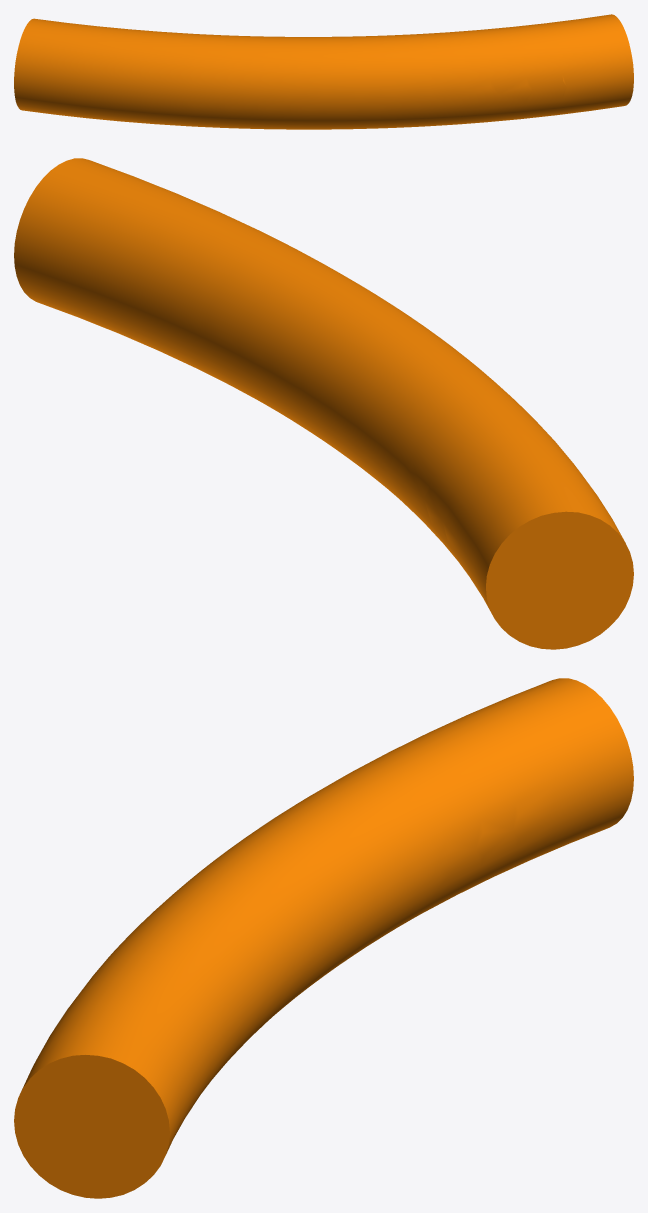
Rendered from Exc_Motor_5203_2402_0188_37.obj.
3 views of the same model, one above another, from view 1: azimuth 30°, elevation 25°; view 2: azimuth 150°, elevation 25°; view 3: azimuth 270°, elevation 25° (orthographic). The views are drawn at different scales.
Visible parts, largest first — view 1: mesh28591; view 2: mesh28591; view 3: mesh28591.
Boxes of the visible parts, x1,y1,x2,y2 form: mesh28591: (14,14,633,129); mesh28591: (14,158,633,649); mesh28591: (14,678,633,1198).
Size of the model in its own units: 0.00482 by 0.000797 by 0.00313.
